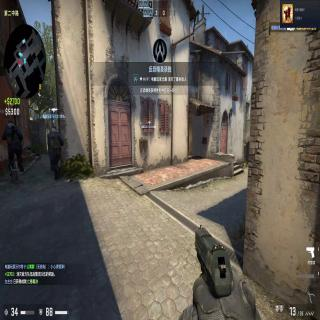CT-Body: (1, 119, 25, 183), (46, 126, 64, 179)
CT-Head: (50, 125, 57, 134), (7, 120, 13, 128), (163, 186, 164, 187)
